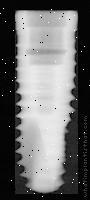DENTSPLY: (11, 10, 78, 195)
